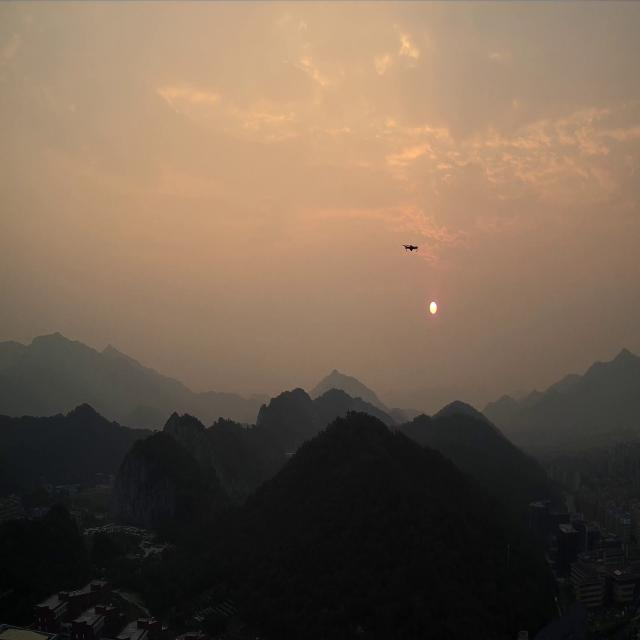UAV: (402, 244, 418, 252)
